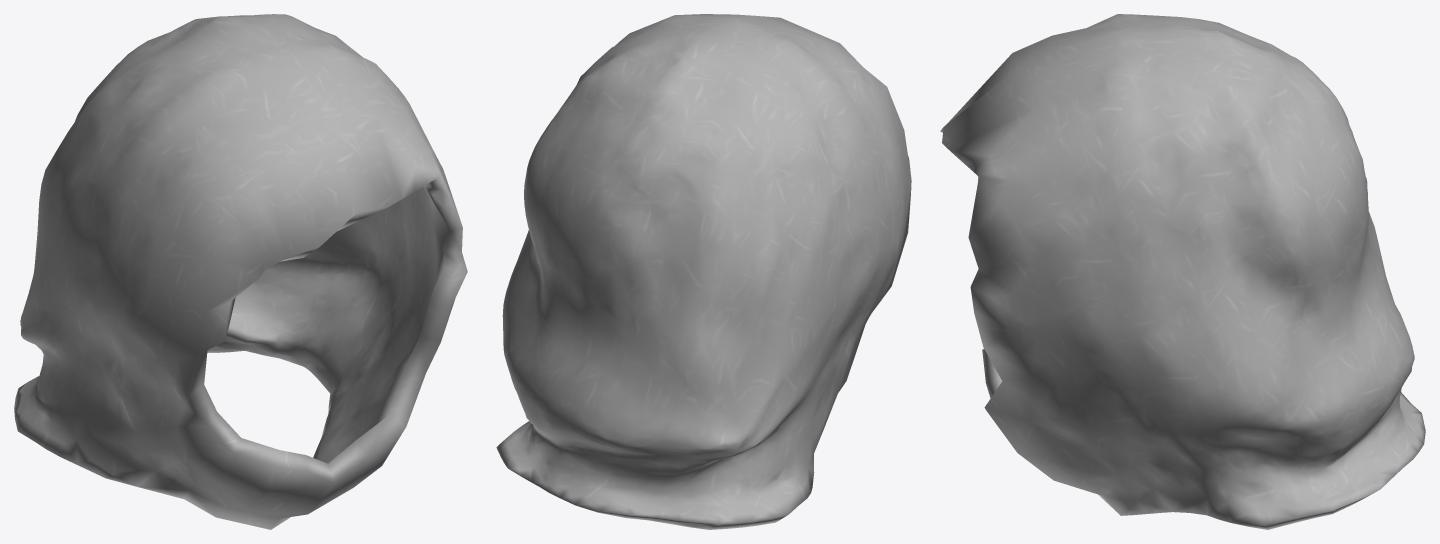
Rendered from locker_hood.glb.
3 views of the same model, side by side, from view 1: azimuth 30°, elevation 25°; view 2: azimuth 150°, elevation 25°; view 3: azimuth 270°, elevation 25° (orthographic). The views are drawn at different scales.
Visible parts, largest first — view 1: Cube.018; view 2: Cube.018; view 3: Cube.018.
Part boxes in pixels (bbox=[...]): Cube.018: bbox=[14, 14, 467, 529]; Cube.018: bbox=[496, 14, 911, 529]; Cube.018: bbox=[940, 14, 1425, 529].
Bounding box in the file's own units: 0.2747 × 0.3687 × 0.3446.
1 material, 1 textured.
